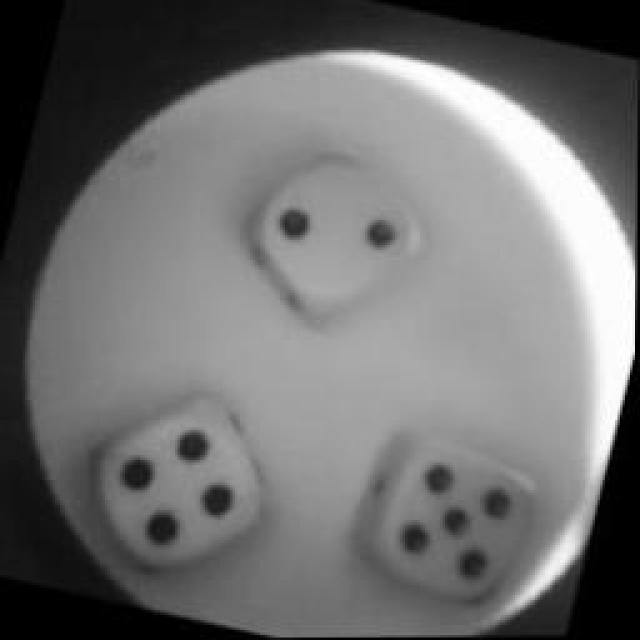dice_2: (223, 128, 445, 354)
dice_4: (75, 375, 287, 587)
dice_5: (359, 418, 551, 620)
